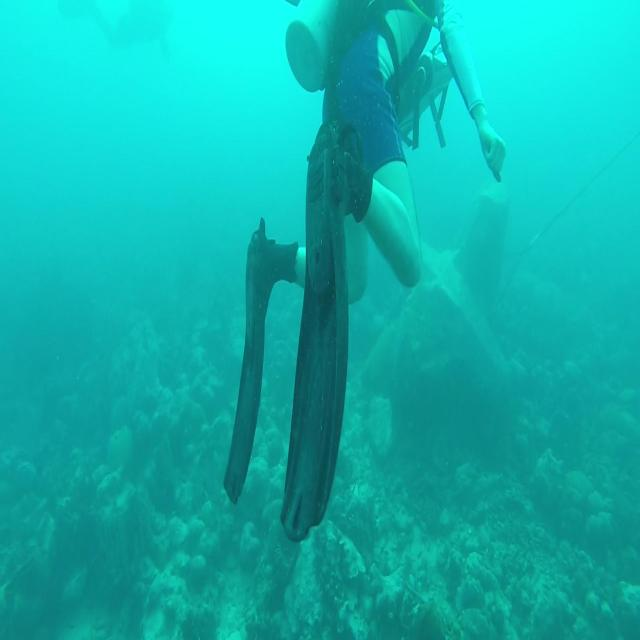human: (223, 0, 506, 541)
